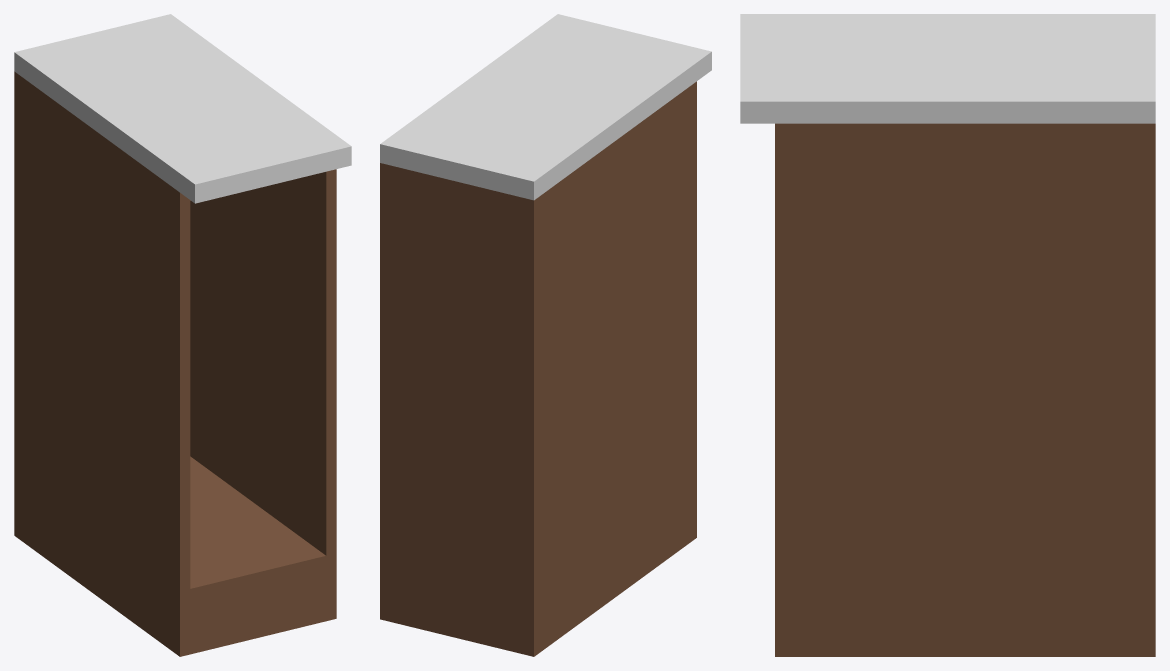
File: Kitchen1_C2_03.fbx
3 renders of one model, left to right at view 1: azimuth 30°, elevation 25°; view 2: azimuth 150°, elevation 25°; view 3: azimuth 270°, elevation 25°, orthographic. The views are drawn at different scales.
Parts seen in each view (by area): view 1: Kitchen1_C2_03; view 2: Kitchen1_C2_03; view 3: Kitchen1_C2_03.
Part boxes in pixels (bbox=[...]): Kitchen1_C2_03: bbox=[14, 14, 351, 656]; Kitchen1_C2_03: bbox=[380, 14, 711, 656]; Kitchen1_C2_03: bbox=[740, 14, 1155, 656].
Bounding box in the file's own units: 30 × 88.5 × 60.
